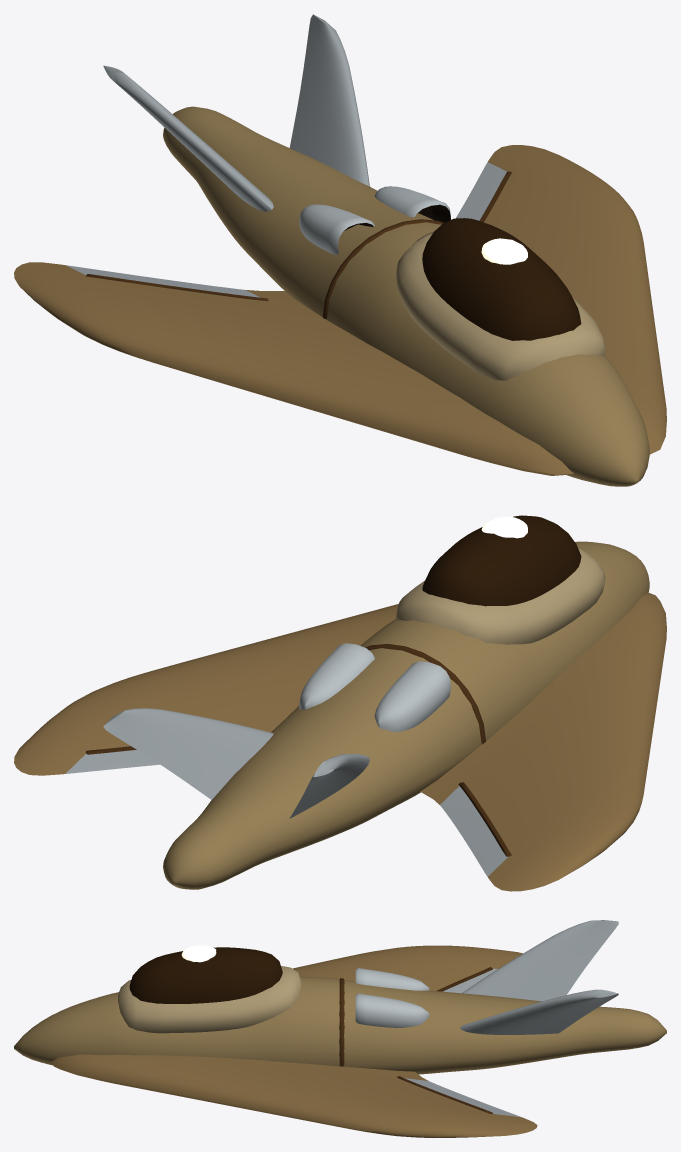
The model's file is fork_ship.glb.
3 views of the same model, one above another, from view 1: azimuth 30°, elevation 25°; view 2: azimuth 150°, elevation 25°; view 3: azimuth 270°, elevation 25° (orthographic). The views are drawn at different scales.
Parts seen in each view (by area): view 1: fuselage, wing_l, wing_r, canopy, sill, fin_r, fin_l, scoop_l, scoop_r, port_light, seam; view 2: fuselage, wing_l, wing_r, canopy, fin_r, sill, scoop_l, scoop_r, fin_l, seam, port_light; view 3: fuselage, wing_r, canopy, fin_l, wing_l, sill, fin_r, scoop_r, scoop_l, seam, port_light.
Boxes of the visible parts, x1,y1,x2,y2 form: fuselage: [163, 106, 649, 486]; wing_l: [14, 262, 573, 475]; wing_r: [455, 145, 666, 454]; canopy: [422, 218, 581, 340]; sill: [396, 231, 605, 380]; fin_r: [289, 14, 369, 186]; fin_l: [103, 65, 273, 211]; scoop_l: [299, 204, 374, 254]; scoop_r: [374, 186, 450, 222]; port_light: [481, 238, 527, 264]; seam: [322, 219, 443, 318]; fuselage: [163, 541, 649, 889]; wing_l: [420, 592, 666, 891]; wing_r: [14, 604, 398, 775]; canopy: [422, 515, 581, 606]; fin_r: [103, 708, 273, 799]; sill: [396, 548, 605, 644]; scoop_l: [374, 661, 450, 732]; scoop_r: [299, 643, 374, 709]; fin_l: [289, 754, 369, 818]; seam: [365, 644, 485, 744]; port_light: [481, 516, 527, 538]; fuselage: [14, 976, 666, 1074]; wing_r: [51, 1054, 537, 1137]; canopy: [129, 947, 282, 1003]; fin_l: [462, 920, 618, 1001]; wing_l: [292, 945, 522, 993]; sill: [118, 966, 301, 1033]; fin_r: [460, 989, 618, 1034]; scoop_r: [355, 993, 429, 1027]; scoop_l: [355, 968, 429, 990]; seam: [339, 978, 344, 1066]; port_light: [181, 945, 216, 962].
Bounding box in the file's own units: 16.6 × 4.89 × 24.3.
